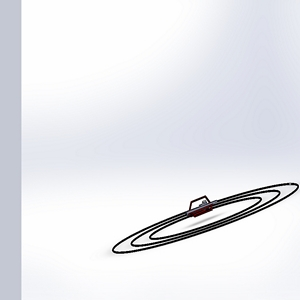circle: (98, 172, 300, 258)
submarine: (181, 190, 219, 223)
